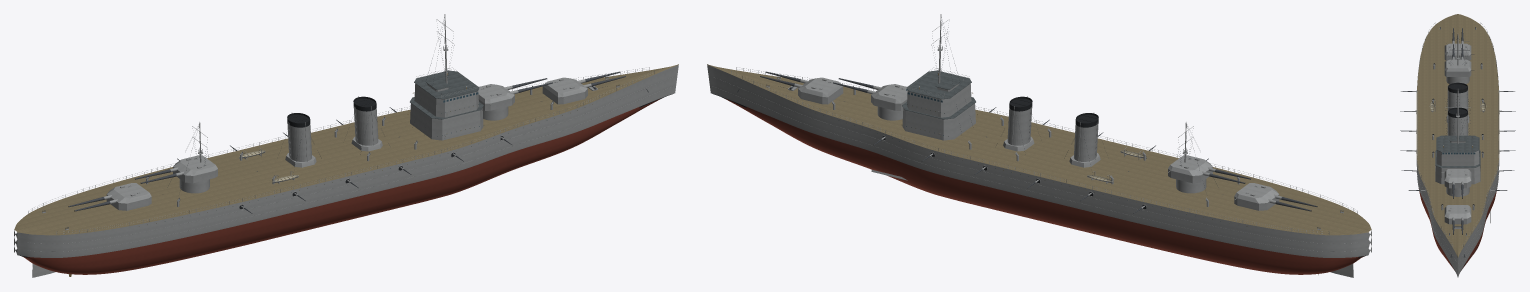
The model's file is caracciolo.glb.
The picture shows the model from 3 angles, left to right: view 1: azimuth 30°, elevation 25°; view 2: azimuth 150°, elevation 25°; view 3: azimuth 270°, elevation 25°; orthographic projection. The views are drawn at different scales.
Visible parts, largest first — view 1: Francesco Caracciolo class (suspended); view 2: Francesco Caracciolo class (suspended); view 3: Francesco Caracciolo class (suspended).
Part boxes in pixels (<box>): Francesco Caracciolo class (suspended): <box>14,14,678,277</box>; Francesco Caracciolo class (suspended): <box>707,14,1371,277</box>; Francesco Caracciolo class (suspended): <box>1400,14,1515,277</box>.
Bounding box in the file's own units: 208 × 49.67 × 41.19.
9 materials, 8 textured.
